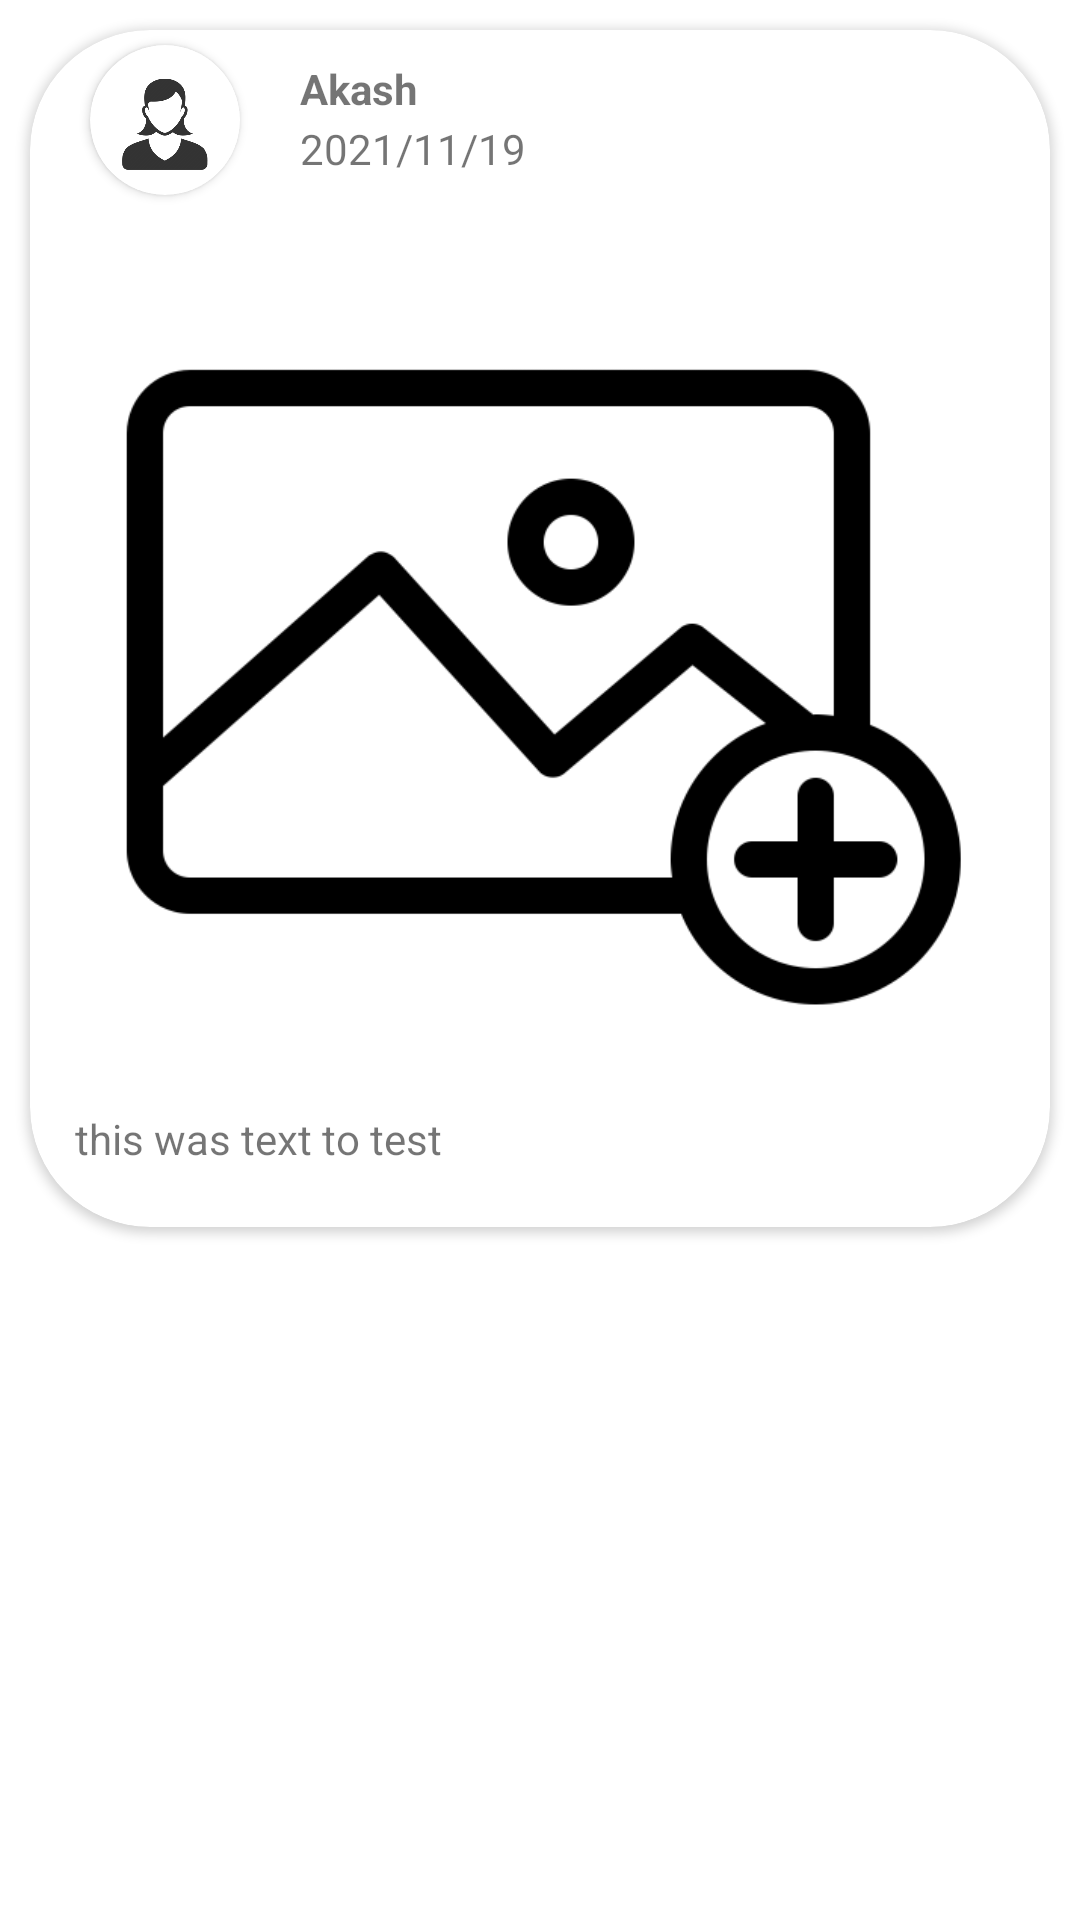

Icons on this 1080px×1920px Android screen, each with its box as [x1,y1,x2,y2]:
femapro: [90,53,208,195]
